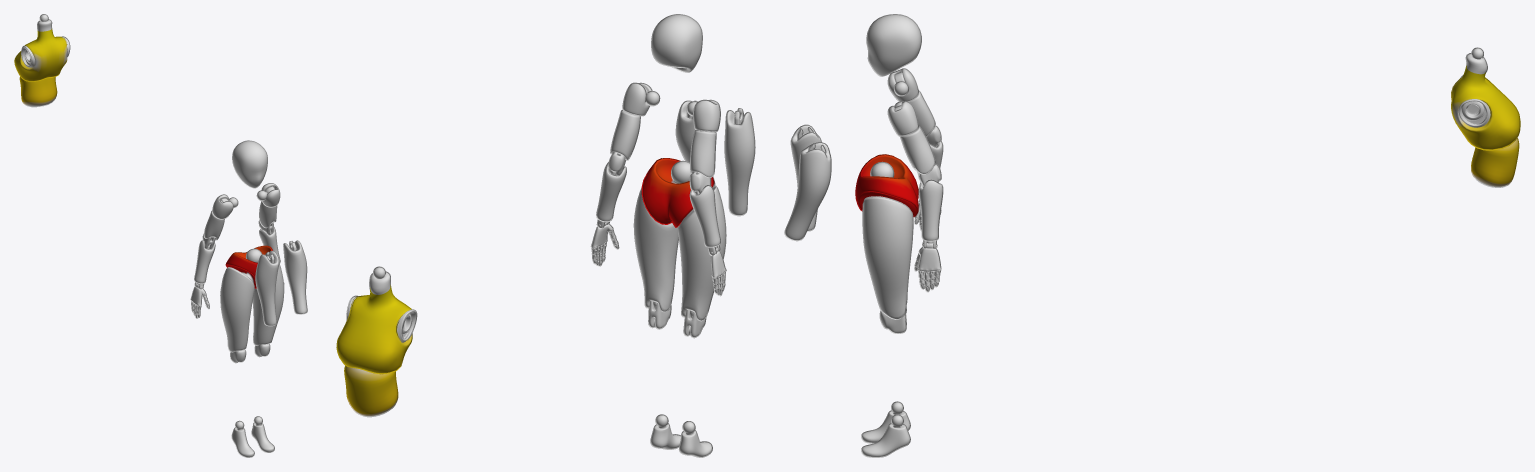
The model's file is redoll_1_rigged.glb.
3 renders of one model, left to right at view 1: azimuth 30°, elevation 25°; view 2: azimuth 150°, elevation 25°; view 3: azimuth 270°, elevation 25°, orthographic. The views are drawn at different scales.
Visible parts, largest first — view 1: tight.001, calf.001, chest.001, head.001, foot.001, waist.002, foreArm.001, hip.001, upperArm.001, shoulder.001, knee.001; view 2: tight.001, chest.001, calf.001, hip.001, head.001, foreArm.001, upperArm.001, waist.002, shoulder.001, foot.001, knee.001, palm.001 (+1 smaller); view 3: tight.001, chest.001, calf.001, head.001, hip.001, foot.001, waist.002, upperArm.001, foreArm.001, shoulder.001.
Part boxes in pixels (x1,y1,x2,y2): tight.001: (220,263,284,352); calf.001: (255,240,307,326); chest.001: (14,14,70,81); head.001: (232,140,267,188); foot.001: (231,416,274,457); waist.002: (19,76,57,107); foreArm.001: (194,226,280,283); hip.001: (225,245,272,288); upperArm.001: (203,201,277,240); shoulder.001: (212,183,280,219); knee.001: (230,344,270,363); tight.001: (633,185,726,321); chest.001: (336,266,417,374); calf.001: (675,100,755,216); hip.001: (641,158,714,227); head.001: (651,14,702,72); foreArm.001: (596,162,720,247); upperArm.001: (610,110,716,178); waist.002: (344,365,398,417); shoulder.001: (622,82,720,131); foot.001: (650,414,712,457); knee.001: (648,301,706,338); palm.001: (590,223,726,278); tight.001: (862,196,913,319); chest.001: (1451,47,1520,150); calf.001: (784,124,831,241); head.001: (866,14,921,76); hip.001: (855,154,918,217); foot.001: (861,401,910,457); waist.002: (1471,138,1519,187); upperArm.001: (900,90,935,174); foreArm.001: (918,141,943,241); shoulder.001: (887,68,918,136).
Size of the model in its own units: 0.4894 by 1.62 by 2.5.
